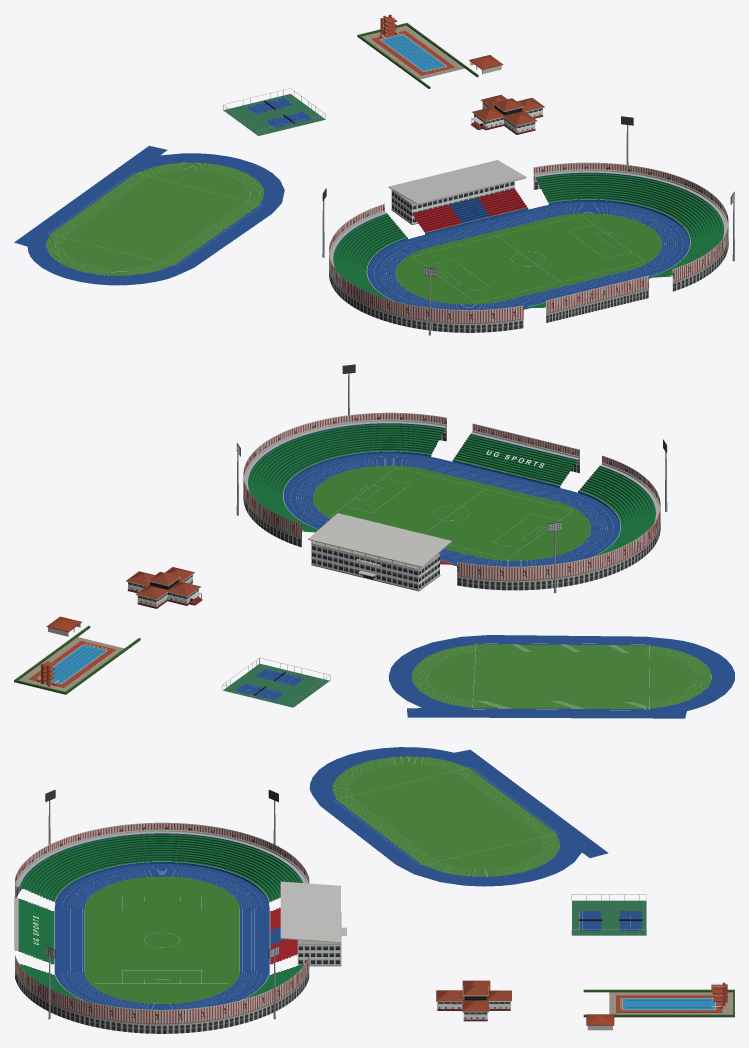
Rendered from ug-stadium.glb.
3 renders of one model, top to bottom at view 1: azimuth 30°, elevation 25°; view 2: azimuth 150°, elevation 25°; view 3: azimuth 270°, elevation 25°, orthographic. The views are drawn at different scales.
Visible parts, largest first — view 1: University of Ghana Sports Stadium, University of Ghana Stadium Training Track, University of Ghana Swimming Pool and Tennis Courts, UG Gymnasium; view 2: University of Ghana Sports Stadium, University of Ghana Stadium Training Track, University of Ghana Swimming Pool and Tennis Courts, UG Gymnasium; view 3: University of Ghana Sports Stadium, University of Ghana Stadium Training Track, University of Ghana Swimming Pool and Tennis Courts, UG Gymnasium.
Part boxes in pixels (x1=…): University of Ghana Sports Stadium: x1=322, y1=116, x2=734, y2=335; University of Ghana Stadium Training Track: x1=14, y1=145, x2=284, y2=285; University of Ghana Swimming Pool and Tennis Courts: x1=223, y1=14, x2=503, y2=135; UG Gymnasium: x1=470, y1=94, x2=545, y2=134; University of Ghana Sports Stadium: x1=236, y1=364, x2=667, y2=593; University of Ghana Stadium Training Track: x1=388, y1=635, x2=734, y2=718; University of Ghana Swimming Pool and Tennis Courts: x1=14, y1=616, x2=330, y2=707; UG Gymnasium: x1=125, y1=567, x2=202, y2=608; University of Ghana Sports Stadium: x1=14, y1=789, x2=346, y2=1033; University of Ghana Stadium Training Track: x1=309, y1=747, x2=608, y2=886; University of Ghana Swimming Pool and Tennis Courts: x1=571, y1=894, x2=734, y2=1030; UG Gymnasium: x1=436, y1=980, x2=511, y2=1021.
Size of the model in its own units: 345 by 39.5 by 367.
12 materials, 10 textured.
